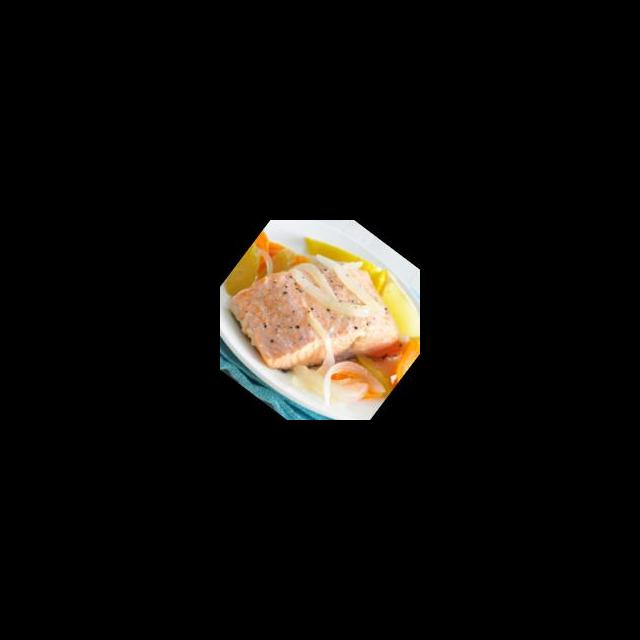ca hoi: (220, 235, 377, 402), (284, 241, 420, 378)
